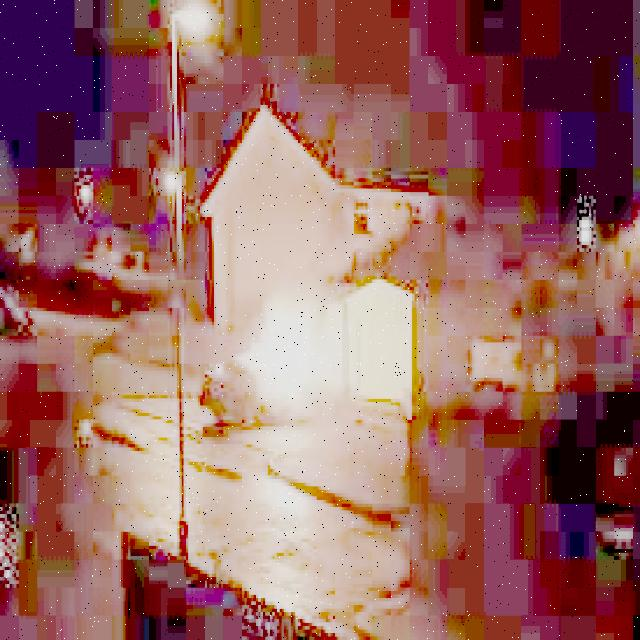api: (196, 291, 348, 424)
